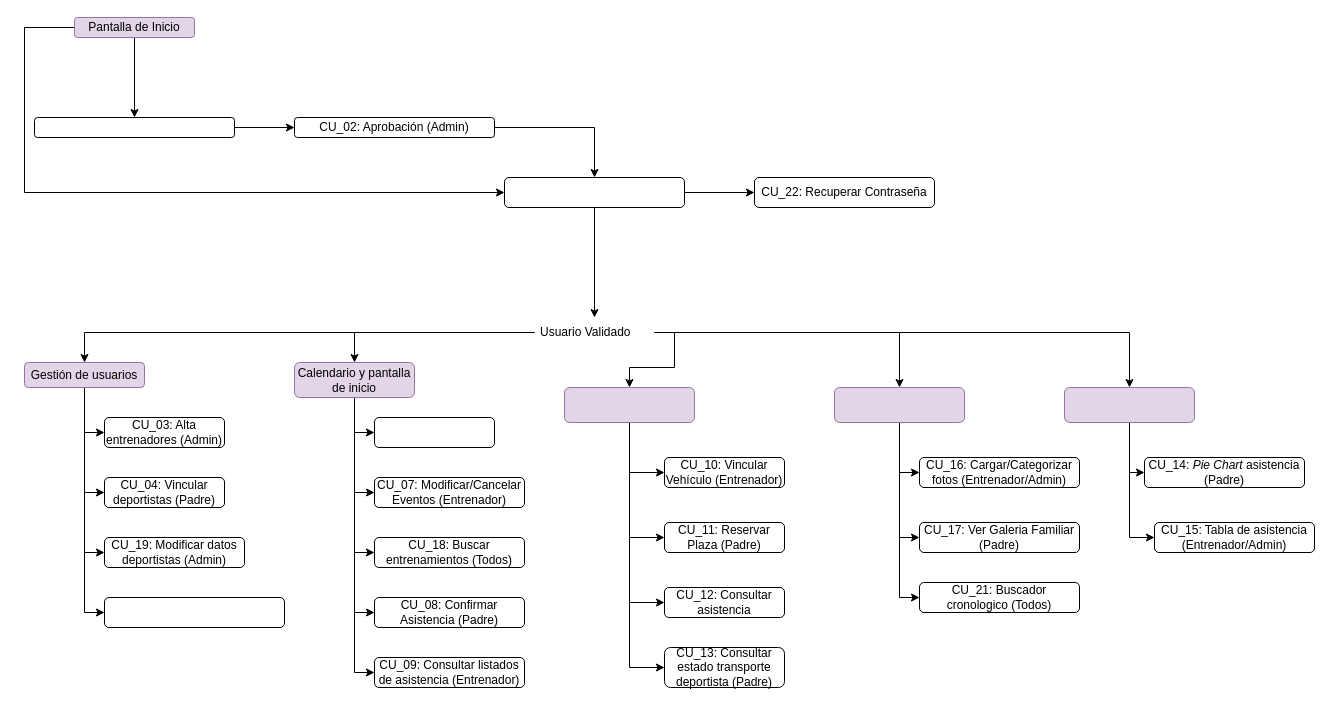
Image size: 1332x706. Some labels were removed from this diagram. Here are the shapes that lost their labels. From the top down, the centre of each, then its label:
At (x=134, y=127): "CU_01: Solicitar Registro (Padre)".
At (x=594, y=192): "CU_05: Iniciar Sesión / Login".
At (x=629, y=404): "Logística de transporte".
At (x=899, y=404): "Multimedia".
At (x=1129, y=404): "Asistencia".
At (x=434, y=432): "CU_06: Programar eventos (Entrenador)".
At (x=194, y=612): "CU_20: Modificar Contraseña (Todos)".
